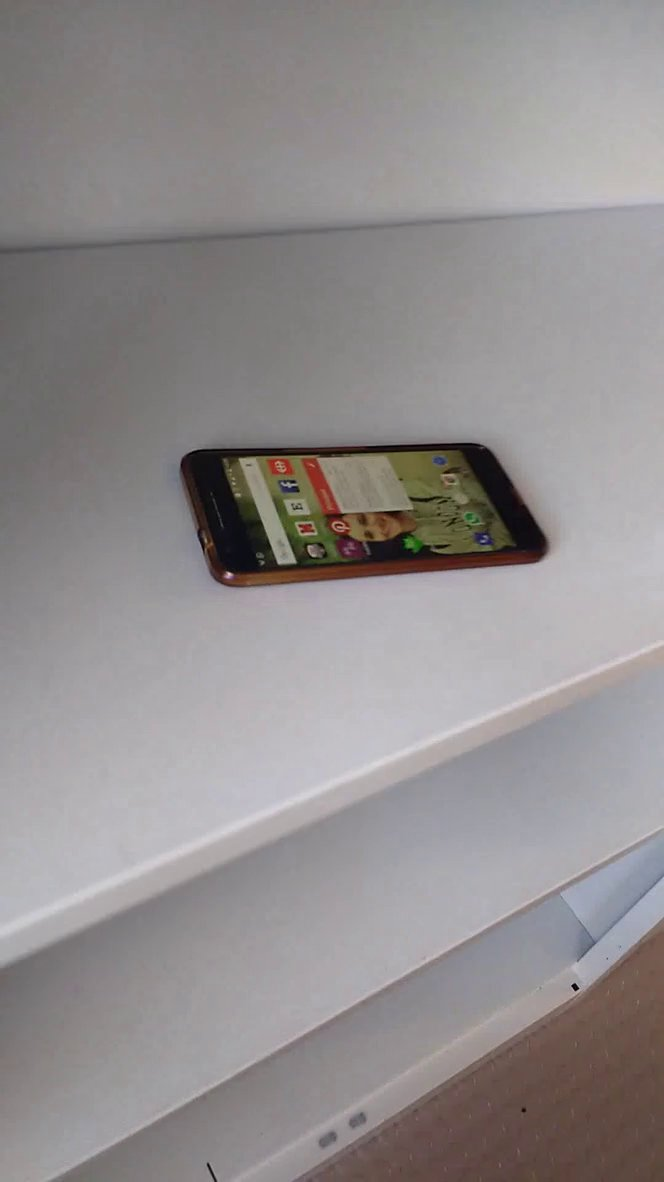phone: (175, 414, 574, 605)
